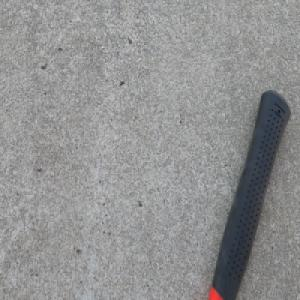Hammer: (205, 87, 291, 300)
